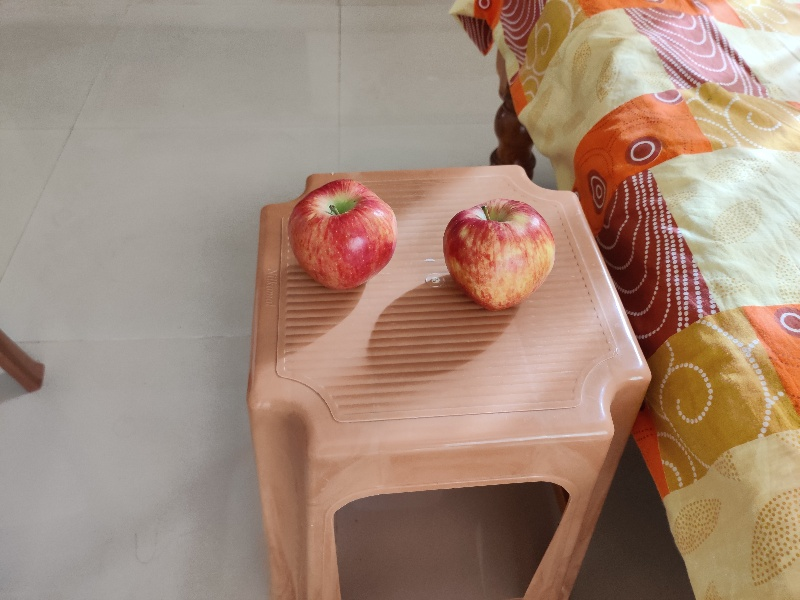apple: (442, 193, 564, 309), (288, 177, 402, 291)
